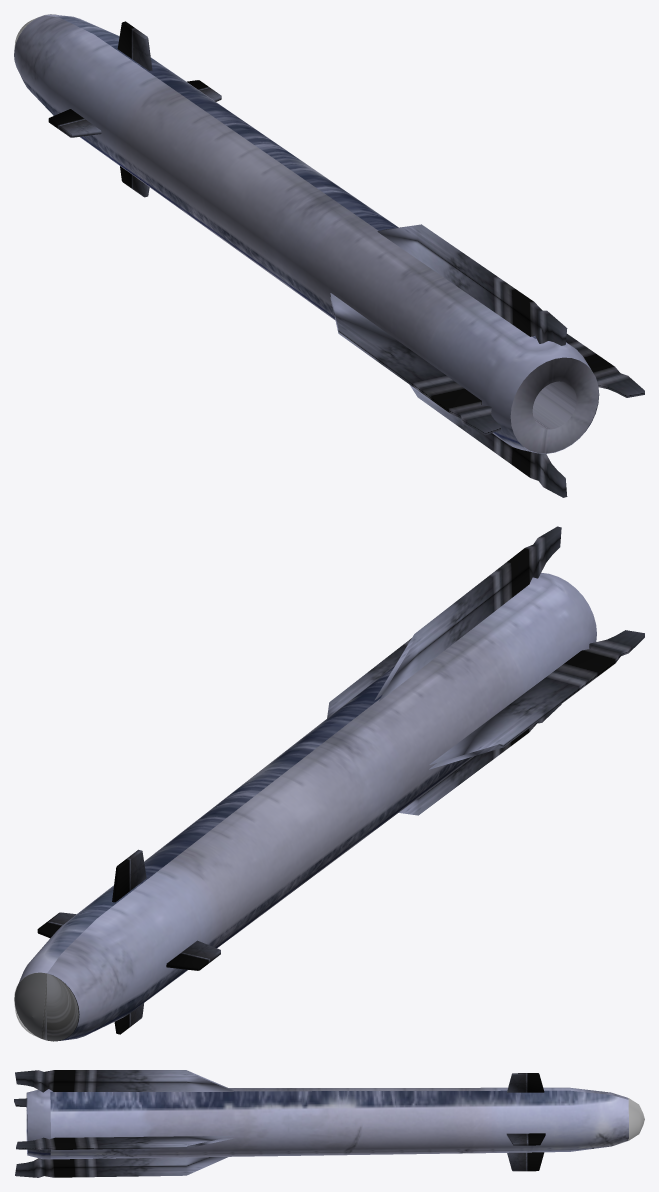
File: AGM-114HellFire.fbx
3 renders of one model, top to bottom at view 1: azimuth 30°, elevation 25°; view 2: azimuth 150°, elevation 25°; view 3: azimuth 270°, elevation 25°, orthographic. The views are drawn at different scales.
Parts seen in each view (by area): view 1: Cylinder, Cube_002, Cylinder_002, Cylinder_003, Cube; view 2: Cylinder, Cube_002, Cylinder_003, Cylinder_001, Cylinder_005, Cube; view 3: Cylinder_003, Cube_002, Cylinder, Cube, Cylinder_001.
Part boxes in pixels (x1=…): Cylinder: x1=14, y1=15, x2=599, y2=453; Cube_002: x1=330, y1=224, x2=644, y2=497; Cylinder_002: x1=510, y1=357, x2=598, y2=453; Cylinder_003: x1=45, y1=14, x2=567, y2=343; Cube: x1=48, y1=21, x2=221, y2=197; Cylinder: x1=47, y1=572, x2=596, y2=1040; Cube_002: x1=327, y1=526, x2=644, y2=815; Cylinder_003: x1=18, y1=665, x2=395, y2=984; Cylinder_001: x1=14, y1=972, x2=78, y2=1041; Cylinder_005: x1=14, y1=972, x2=79, y2=1041; Cube: x1=37, y1=849, x2=220, y2=1034; Cylinder_003: x1=50, y1=1090, x2=628, y2=1159; Cube_002: x1=14, y1=1070, x2=233, y2=1177; Cylinder: x1=26, y1=1087, x2=628, y2=1159; Cube: x1=506, y1=1073, x2=545, y2=1171; Cylinder_001: x1=628, y1=1098, x2=644, y2=1140.
Bounding box in the file's own units: 0.6615 × 0.6526 × 3.5.
